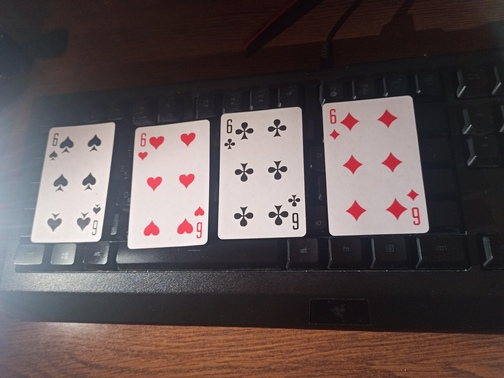sixclubs: (216, 107, 309, 240)
sixdiamonds: (319, 98, 433, 237)
sixhearts: (130, 124, 213, 247)
sixspades: (31, 120, 115, 244)
